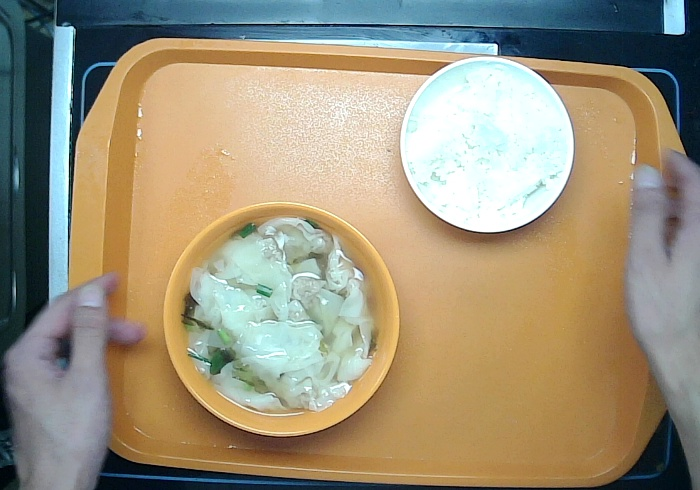NLDX-Fan_Wan: (393, 50, 580, 245)
NLDX-Hun_Tun_Wan: (160, 196, 404, 442)
